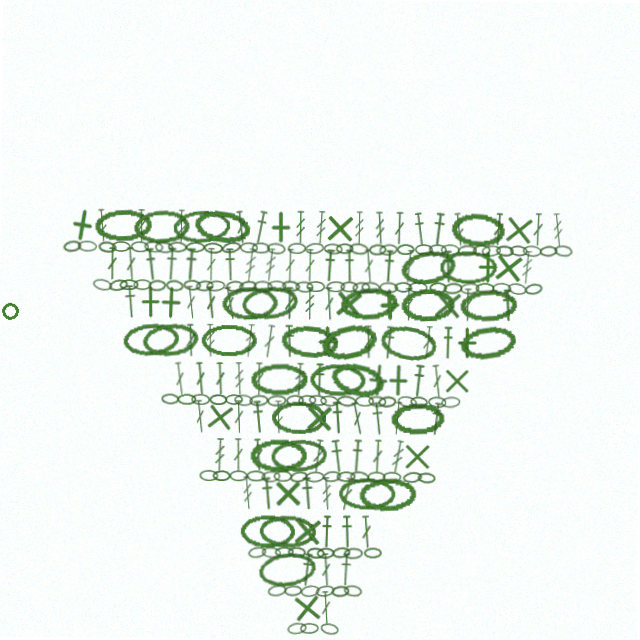chain: (318, 319, 380, 364), (328, 358, 389, 402), (378, 321, 439, 363), (259, 549, 321, 590), (398, 245, 458, 287), (458, 321, 518, 362), (191, 208, 251, 248), (141, 322, 201, 361), (240, 284, 299, 323), (280, 323, 339, 361), (339, 285, 398, 322), (122, 323, 180, 360), (171, 210, 230, 246), (271, 438, 329, 474), (459, 286, 517, 322), (132, 210, 190, 246), (449, 210, 506, 246), (360, 476, 418, 511), (221, 286, 279, 321), (93, 210, 151, 245), (261, 515, 319, 549), (400, 286, 456, 321), (251, 363, 308, 397), (310, 363, 367, 397), (340, 477, 398, 510), (391, 401, 447, 435), (251, 439, 308, 472), (201, 325, 258, 358), (439, 249, 496, 282), (242, 515, 297, 548), (272, 401, 327, 434), (220, 241, 241, 256), (270, 584, 290, 598), (303, 584, 323, 598), (318, 584, 338, 598), (398, 394, 418, 408), (92, 280, 112, 294), (108, 280, 128, 294), (507, 280, 527, 294), (323, 622, 342, 636), (250, 546, 269, 560), (291, 470, 310, 484), (238, 280, 257, 294), (524, 280, 543, 294), (290, 622, 310, 635), (351, 470, 371, 483), (404, 470, 424, 483), (143, 242, 163, 255), (304, 242, 324, 255), (348, 242, 368, 255), (346, 584, 365, 597), (334, 546, 353, 559), (324, 470, 343, 483), (309, 394, 328, 407), (281, 280, 300, 293), (62, 242, 81, 255), (553, 242, 572, 255), (253, 281, 273, 293), (264, 547, 283, 559), (346, 547, 365, 559), (263, 471, 282, 483), (307, 471, 326, 483), (235, 395, 254, 407), (250, 395, 269, 407), (268, 395, 287, 407), (338, 395, 357, 407), (442, 395, 461, 407), (165, 281, 184, 293), (195, 281, 214, 293), (206, 281, 225, 293), (225, 281, 244, 293), (361, 281, 380, 293), (379, 281, 398, 293), (443, 281, 462, 293), (460, 281, 479, 293), (97, 243, 116, 255), (154, 243, 173, 255), (203, 243, 222, 255), (266, 243, 285, 255), (323, 243, 342, 255), (378, 243, 397, 255), (457, 243, 476, 255), (481, 243, 500, 255), (522, 243, 541, 255), (287, 585, 305, 597), (334, 585, 352, 597), (309, 547, 327, 559), (319, 547, 337, 559), (419, 471, 437, 483), (321, 395, 339, 407), (369, 395, 387, 407), (379, 395, 397, 407), (411, 395, 429, 407), (429, 395, 447, 407), (148, 281, 166, 293), (295, 281, 313, 293), (352, 281, 370, 293), (368, 243, 386, 255), (495, 243, 513, 255), (509, 243, 527, 255), (539, 243, 557, 255), (303, 623, 322, 634), (277, 547, 296, 558), (201, 471, 220, 482), (248, 471, 267, 482), (275, 471, 294, 482), (338, 471, 357, 482), (384, 471, 403, 482), (178, 395, 197, 406), (192, 395, 211, 406), (356, 395, 375, 406), (119, 281, 138, 292), (267, 281, 286, 292), (306, 281, 325, 292), (326, 281, 345, 292), (408, 281, 427, 292), (475, 281, 494, 292), (492, 281, 511, 292), (77, 243, 96, 254), (111, 243, 130, 254), (167, 243, 186, 254), (185, 243, 204, 254), (440, 243, 459, 254), (290, 547, 308, 558), (366, 547, 384, 558), (214, 471, 232, 482), (231, 471, 249, 482), (369, 471, 387, 482), (162, 395, 180, 406), (210, 395, 228, 406), (226, 395, 244, 406), (287, 395, 305, 406), (299, 395, 317, 406), (133, 281, 151, 292), (183, 281, 201, 292), (340, 281, 358, 292), (394, 281, 412, 292), (429, 281, 447, 292), (130, 243, 148, 254), (239, 243, 257, 254), (251, 243, 269, 254), (287, 243, 305, 254), (335, 243, 353, 254), (396, 243, 414, 254), (414, 243, 432, 254), (428, 243, 446, 254), (472, 243, 490, 254)
double: (340, 477, 357, 511), (350, 401, 367, 435), (222, 287, 238, 321), (312, 439, 327, 473), (173, 363, 188, 397), (262, 325, 277, 359), (431, 363, 445, 397), (233, 211, 247, 245), (194, 401, 208, 434), (194, 363, 208, 396), (421, 325, 435, 358), (184, 287, 198, 320), (204, 287, 218, 320), (322, 553, 335, 586), (362, 515, 375, 548), (253, 439, 266, 472), (392, 401, 405, 434), (124, 249, 137, 282), (362, 249, 375, 282), (402, 249, 415, 282), (491, 211, 504, 244), (323, 591, 335, 624), (373, 439, 385, 472), (234, 401, 246, 434), (215, 363, 227, 396), (185, 325, 197, 358), (323, 287, 335, 320), (531, 211, 543, 244), (234, 439, 245, 472), (254, 363, 265, 396), (363, 325, 374, 358), (284, 287, 295, 320), (403, 287, 414, 320), (462, 287, 473, 320), (106, 249, 117, 282), (205, 249, 216, 282), (284, 249, 295, 282), (304, 249, 315, 282), (135, 211, 146, 244), (393, 211, 404, 244)
half_double: (251, 211, 269, 245), (330, 439, 347, 473), (371, 401, 387, 435), (411, 363, 427, 397), (381, 325, 397, 359), (411, 211, 427, 245), (430, 211, 446, 245), (302, 553, 317, 587), (262, 477, 277, 511), (430, 401, 445, 435), (143, 249, 158, 283), (302, 477, 317, 510), (351, 439, 366, 472), (252, 401, 267, 434), (331, 401, 346, 434), (123, 287, 138, 320), (183, 249, 198, 282), (342, 515, 356, 548), (164, 249, 178, 282), (322, 249, 336, 282), (342, 553, 355, 586), (283, 325, 296, 358), (501, 287, 514, 320), (223, 249, 236, 282), (382, 249, 395, 282), (441, 249, 454, 282), (323, 515, 335, 548), (314, 363, 326, 396), (442, 325, 454, 358), (343, 249, 355, 282)
noise: (0, 304, 21, 325)
single: (63, 209, 100, 246), (292, 590, 328, 626), (203, 400, 239, 436), (490, 248, 526, 284), (500, 210, 536, 246), (292, 514, 327, 549), (361, 362, 396, 397), (311, 324, 346, 359), (331, 286, 366, 321), (430, 286, 465, 321), (303, 401, 337, 435), (154, 287, 188, 321), (372, 287, 406, 321), (322, 211, 356, 245), (273, 477, 306, 510), (402, 439, 435, 472), (382, 363, 415, 396), (441, 363, 474, 396), (451, 325, 484, 358), (134, 287, 167, 320), (471, 249, 504, 282), (263, 211, 296, 244)
treble: (391, 439, 407, 473), (243, 249, 257, 283), (451, 211, 465, 245), (242, 477, 256, 510), (243, 325, 257, 358), (263, 249, 277, 282), (550, 211, 564, 244), (322, 477, 335, 510), (520, 249, 533, 282), (95, 211, 108, 244), (215, 439, 227, 472), (234, 363, 246, 396), (294, 363, 306, 396), (314, 211, 326, 244), (373, 211, 385, 244), (274, 401, 285, 434), (205, 325, 216, 358), (304, 287, 315, 320), (175, 211, 186, 244), (294, 211, 305, 244), (353, 211, 364, 244)
